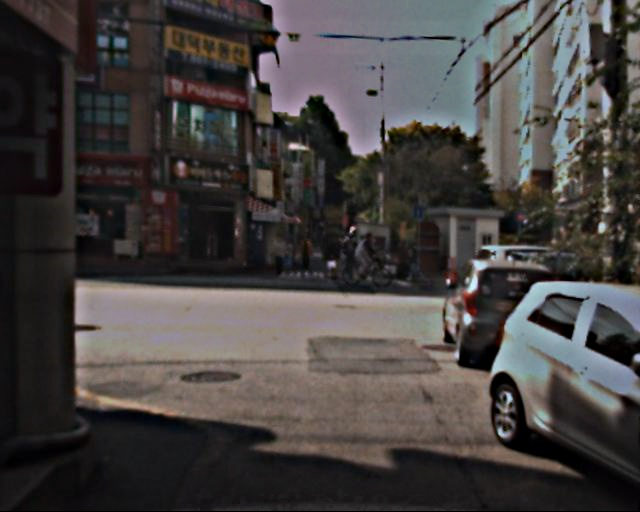person: (354, 228, 374, 277), (399, 239, 422, 280), (325, 230, 344, 276), (269, 235, 286, 277), (343, 232, 360, 274), (301, 235, 317, 274)
